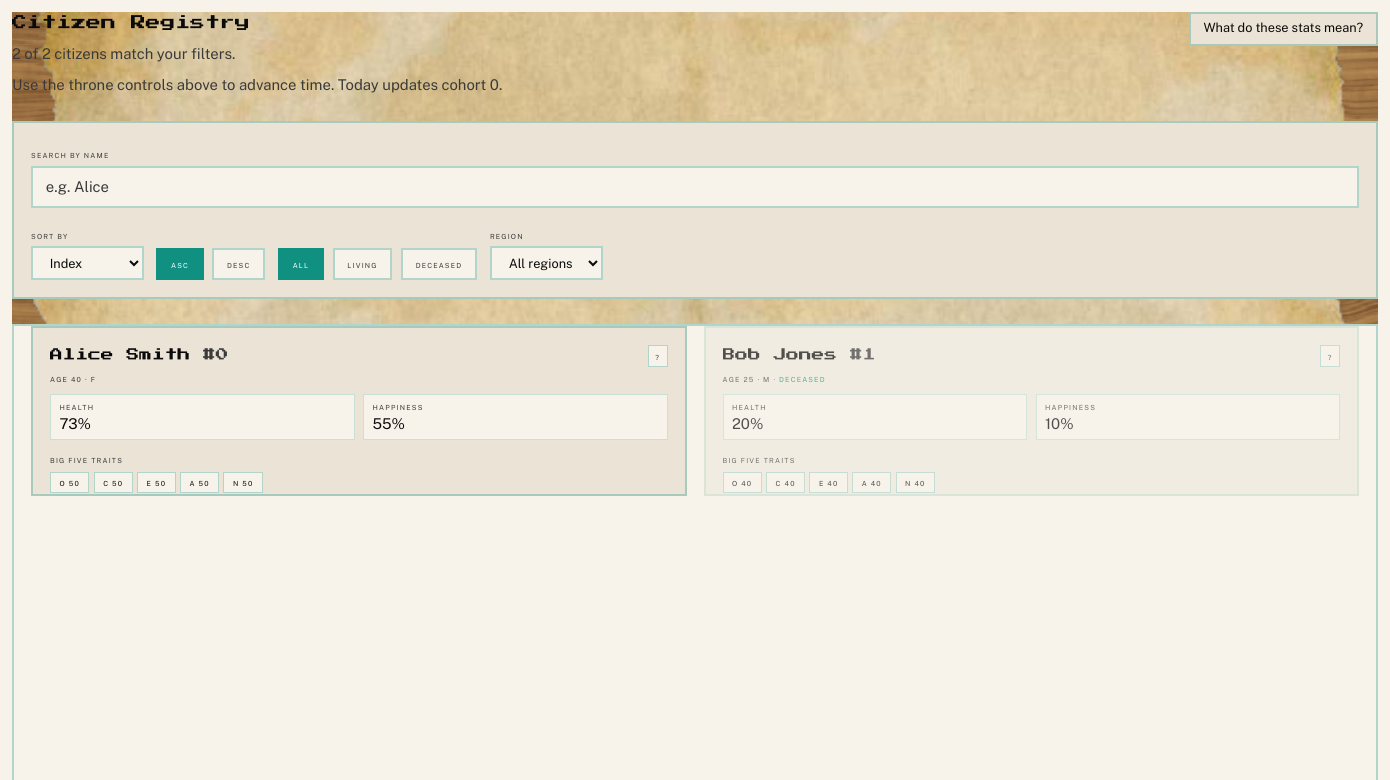
Test: PopulationPage › filters by living status
Check: the heading "Alice Smith #0" is shown, box [50,345,228,366]
Click the button "Deceased" at (439, 264), box [401,248,477,280]
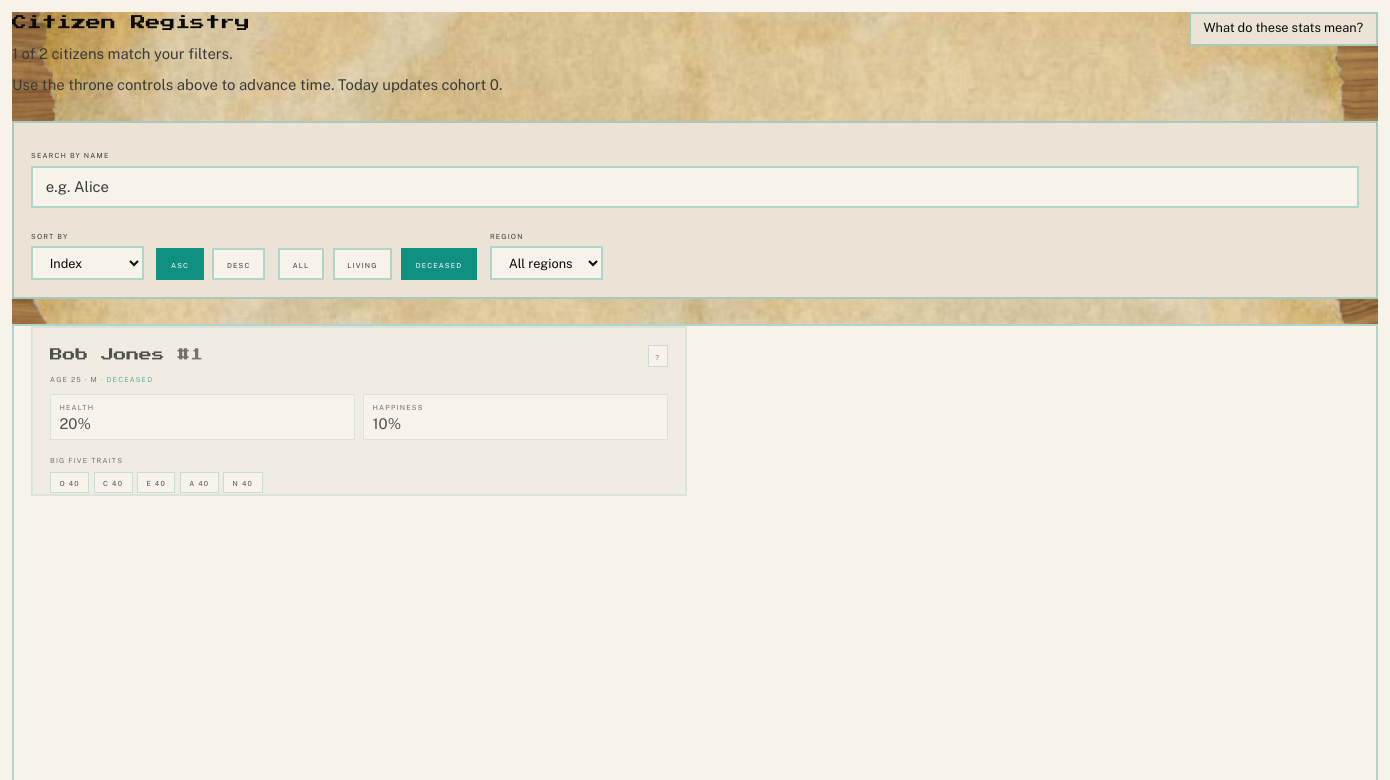
Check: the heading "Bob Jones #1" is shown, box [50,345,203,366]
Check: the button "Alice Smith" is gone
Check: the text "1 of 2 citizens match" is shown, box [12,42,250,66]
